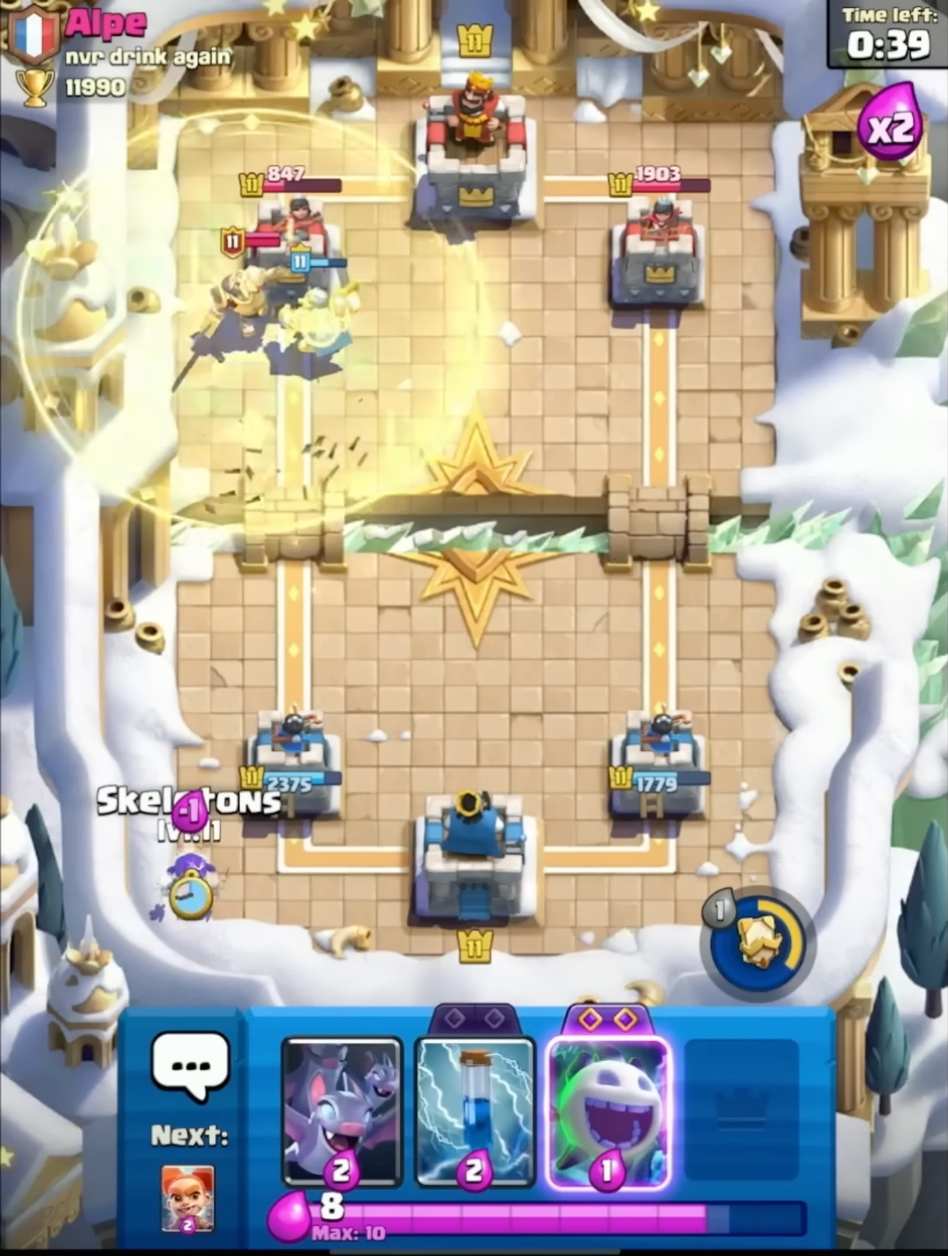hero-knight: (200, 224, 289, 358)
